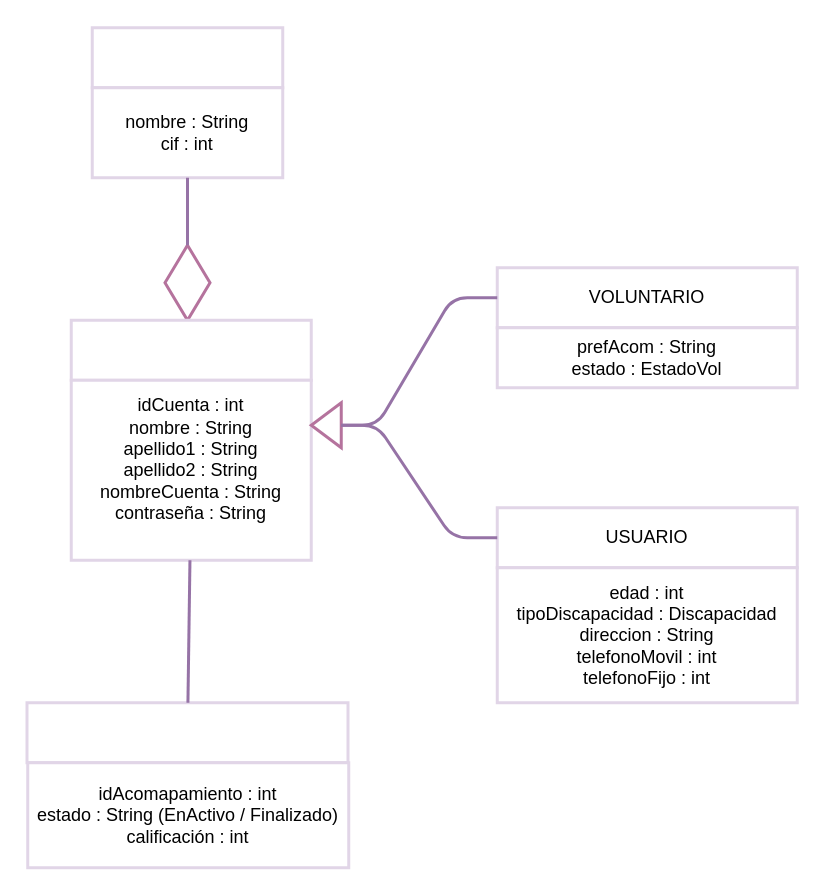
The diagram is 825 pixels wide and 894 high, and some of its shapes have lost their labels. The centre of each missing label's shape, as x and y in pixels:
"ACOMPAÑAMIENTO" goes at point 187,732.
"ASOCIACIÓN" goes at point 187,57.
"CUENTA" goes at point 190,349.
